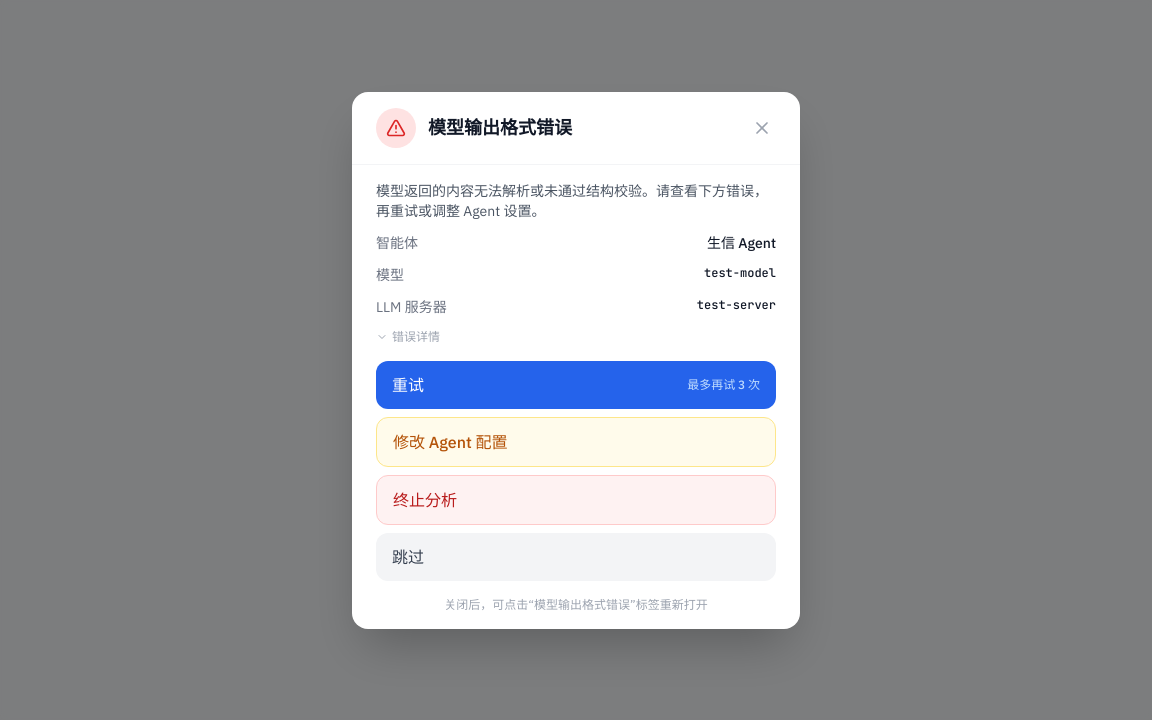
Scenario: Annotation failure intervention › classifies invalid model output in zh
Check: the text "关闭后，可点击“模型输出格式错误”标签重新打开" is shown, box x1=444 y1=596 x2=708 y2=612
Check: the button "修改 Agent 配置" is shown, box x1=376 y1=416 x2=776 y2=466
Step 1. Click the button "错误详情" → (408, 336), box x1=376 y1=328 x2=440 y2=344
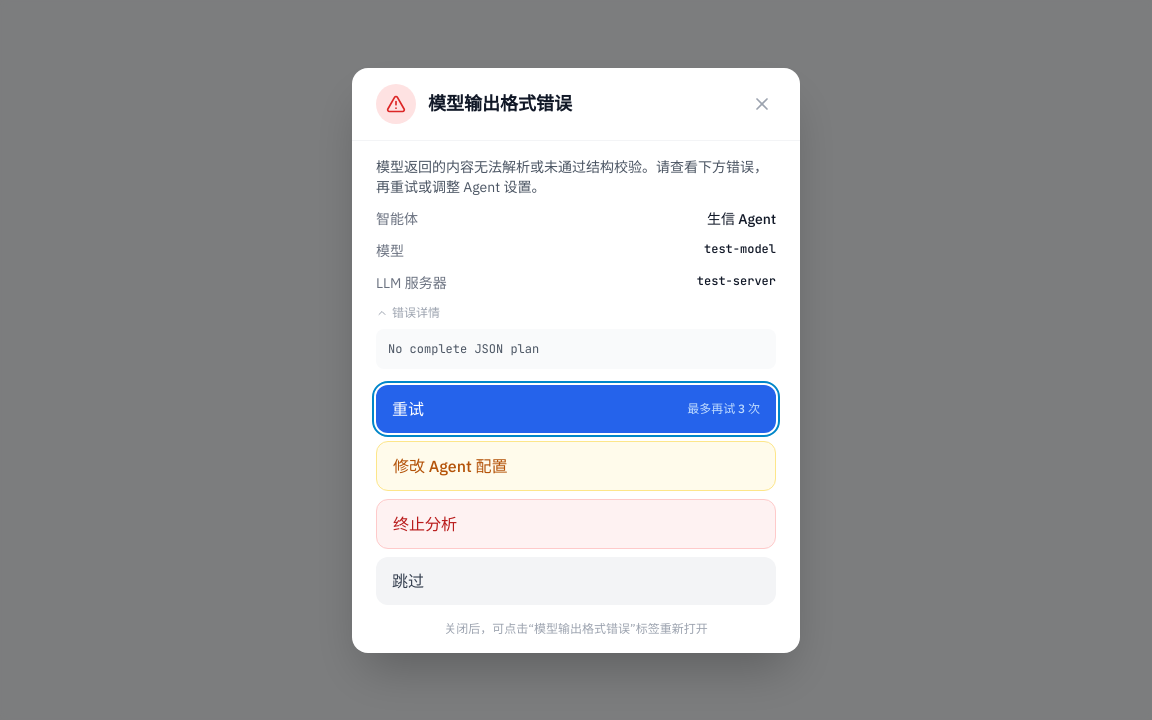
Check: the text "No complete JSON plan" is shown, box x1=376 y1=328 x2=776 y2=368
